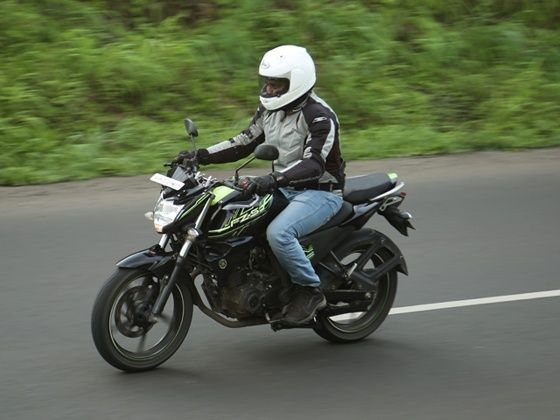helmet: (259, 46, 317, 110)
